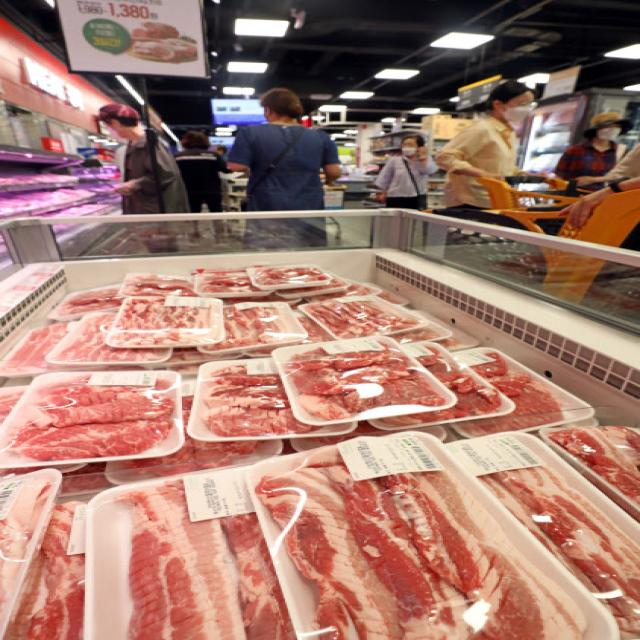pork: (10, 237, 640, 640)
